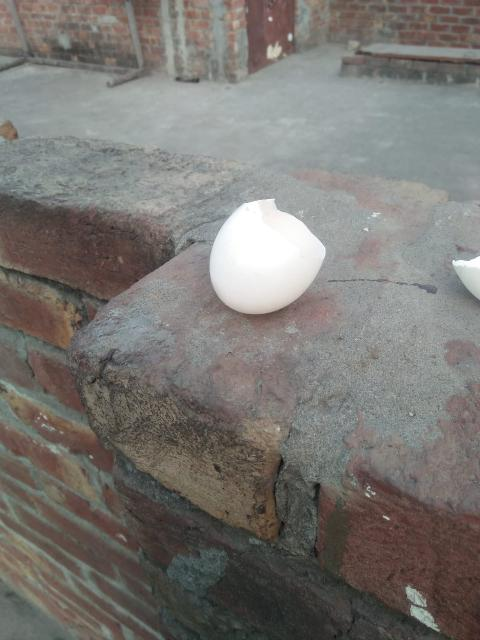Roto: (208, 197, 326, 315), (451, 254, 479, 301)
